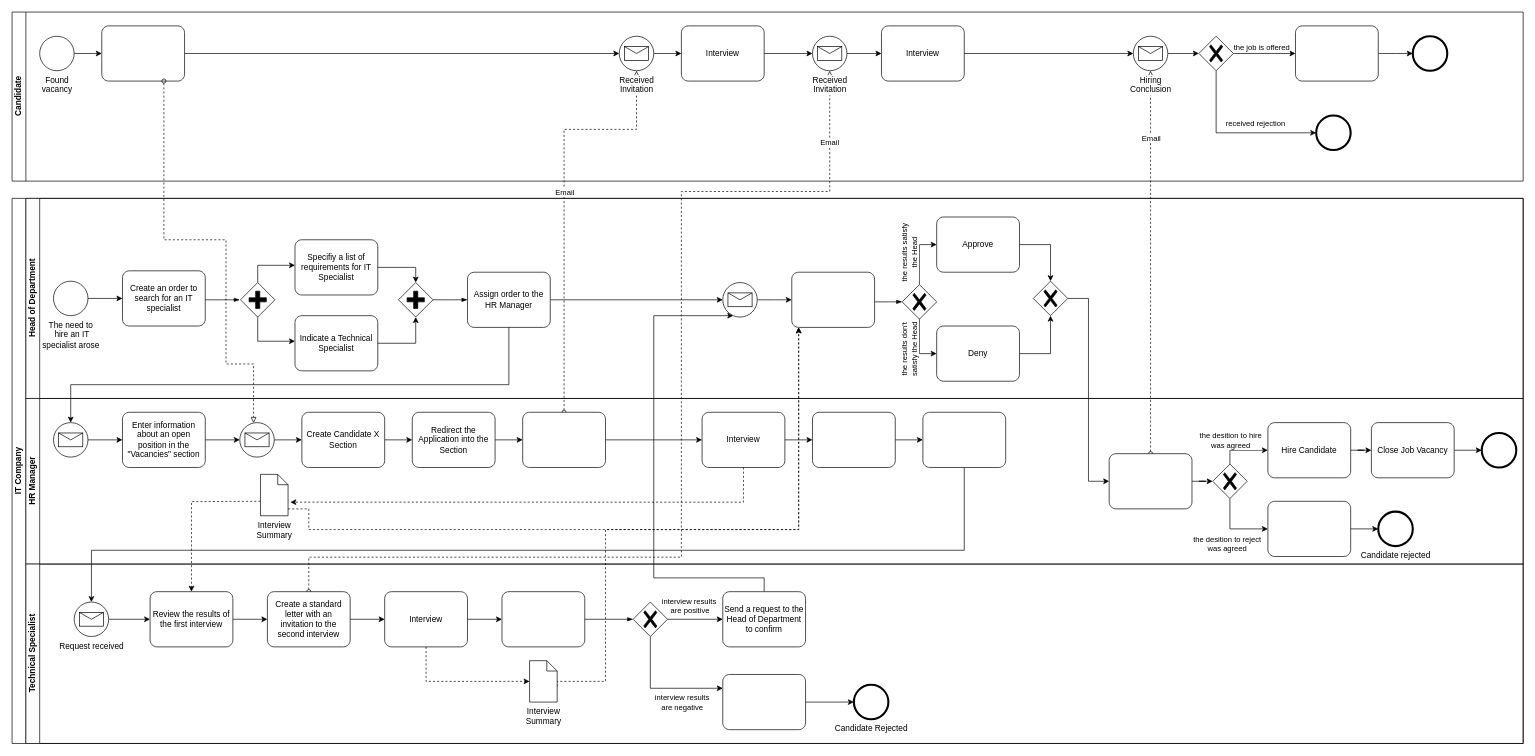
The diagram is 1535 pixels wide and 756 high, and some of its shapes have lost their labels. The shapes that lost their labels are listed below. From the top down, each one's centre as x and y in pixels, then its label:
the point at 143,53: Sends application
the point at 1336,53: Accept a job offer
the point at 1429,53: Get a job
the point at 1333,132: Failed to get a job
the point at 739,299: Candidate Proposal
the point at 833,299: Review the results of the interviews
the point at 70,439: Vacancy order received
the point at 256,439: Application Received
the point at 563,439: Create a standard letter with an invitation to the first interview
the point at 853,439: Register IT qualification data
the point at 964,439: Request Technical Specialist
the point at 1498,449: IT Specialist Hired
the point at 1150,481: Send hiring conclusion
the point at 1309,528: Reject Candidate
the point at 543,619: Register the results of the conducted interview
the point at 764,702: Deny the Candidate employment
